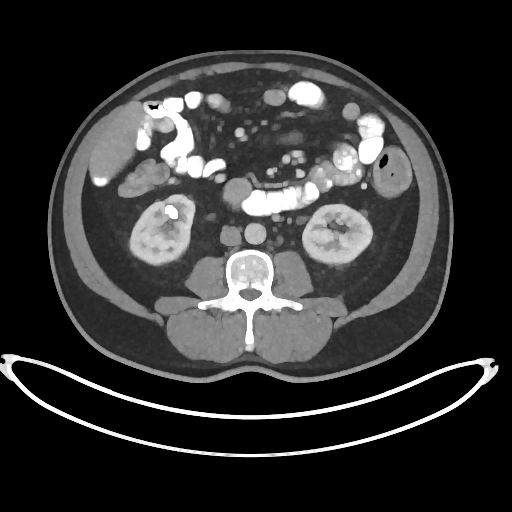Lesion: (160, 202, 183, 226)
